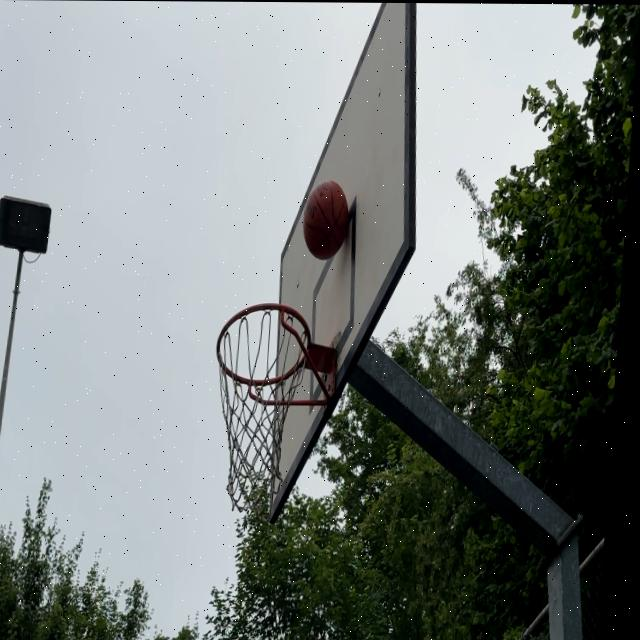rebound_hit: (301, 181, 357, 262)
